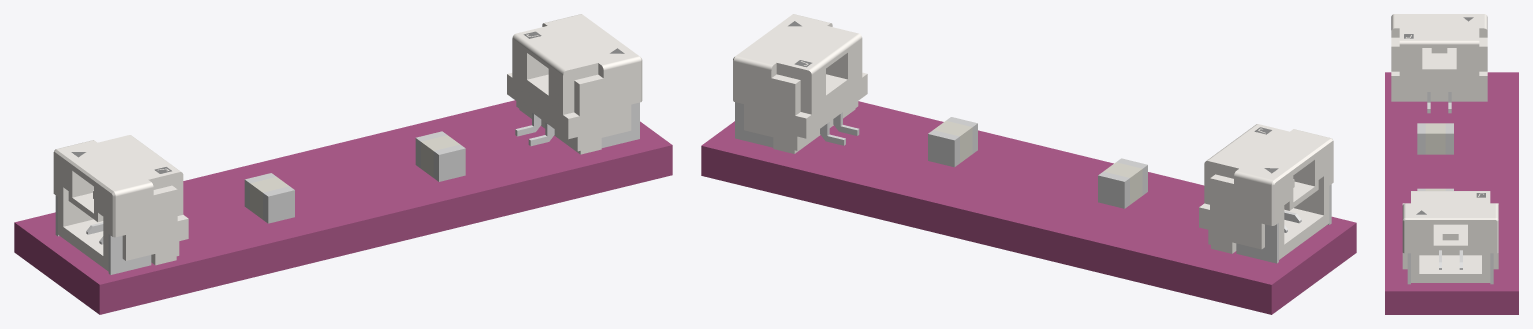
File: PowerConverter.glb
3 renders of one model, left to right at view 1: azimuth 30°, elevation 25°; view 2: azimuth 150°, elevation 25°; view 3: azimuth 270°, elevation 25°, orthographic. The views are drawn at different scales.
Parts seen in each view (by area): view 1: Node4, Node3, Node9, Node2, Node8; view 2: Node4, Node3, Node9, Node2, Node8; view 3: Node4, Node3, Node8, Node9, Node2, Node7.
Boxes of the visible parts, box(x1,y1,x2,y2) form: Node4: box(14, 100, 672, 314); Node3: box(53, 14, 642, 271); Node9: box(244, 131, 465, 223); Node2: box(55, 102, 639, 274); Node8: box(250, 135, 459, 219); Node4: box(701, 101, 1356, 314); Node3: box(733, 14, 1333, 259); Node9: box(928, 117, 1147, 208); Node2: box(735, 102, 1331, 263); Node8: box(933, 120, 1142, 204); Node4: box(1385, 72, 1518, 314); Node3: box(1391, 14, 1498, 282); Node8: box(1425, 123, 1445, 190); Node9: box(1417, 123, 1453, 190); Node2: box(1407, 92, 1493, 284); Node7: box(1404, 17, 1485, 214).
Size of what is drawn, in the model's own units: 31 by 5.91 by 8.
